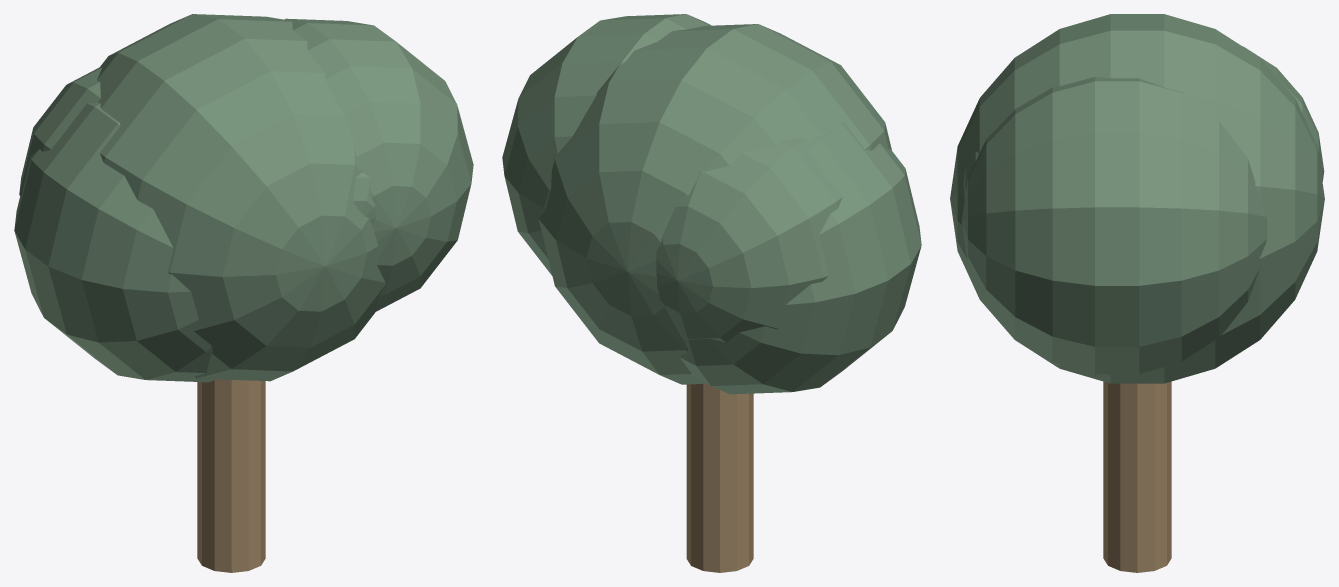
The model's file is mdl_vegetation_tree_mango_001.glb.
The picture shows the model from 3 angles, left to right: view 1: azimuth 30°, elevation 25°; view 2: azimuth 150°, elevation 25°; view 3: azimuth 270°, elevation 25°; orthographic projection.
Parts seen in each view (by area): view 1: m_manigua, m_madera; view 2: m_manigua, m_madera; view 3: m_manigua, m_madera.
Part boxes in pixels (<box>): m_manigua: <box>14,14,473,382</box>; m_madera: <box>197,379,265,572</box>; m_manigua: <box>502,14,921,394</box>; m_madera: <box>686,383,753,572</box>; m_manigua: <box>950,14,1324,383</box>; m_madera: <box>1103,381,1171,572</box>.
Size of the model in its own units: 4.55 by 5.77 by 3.71.
